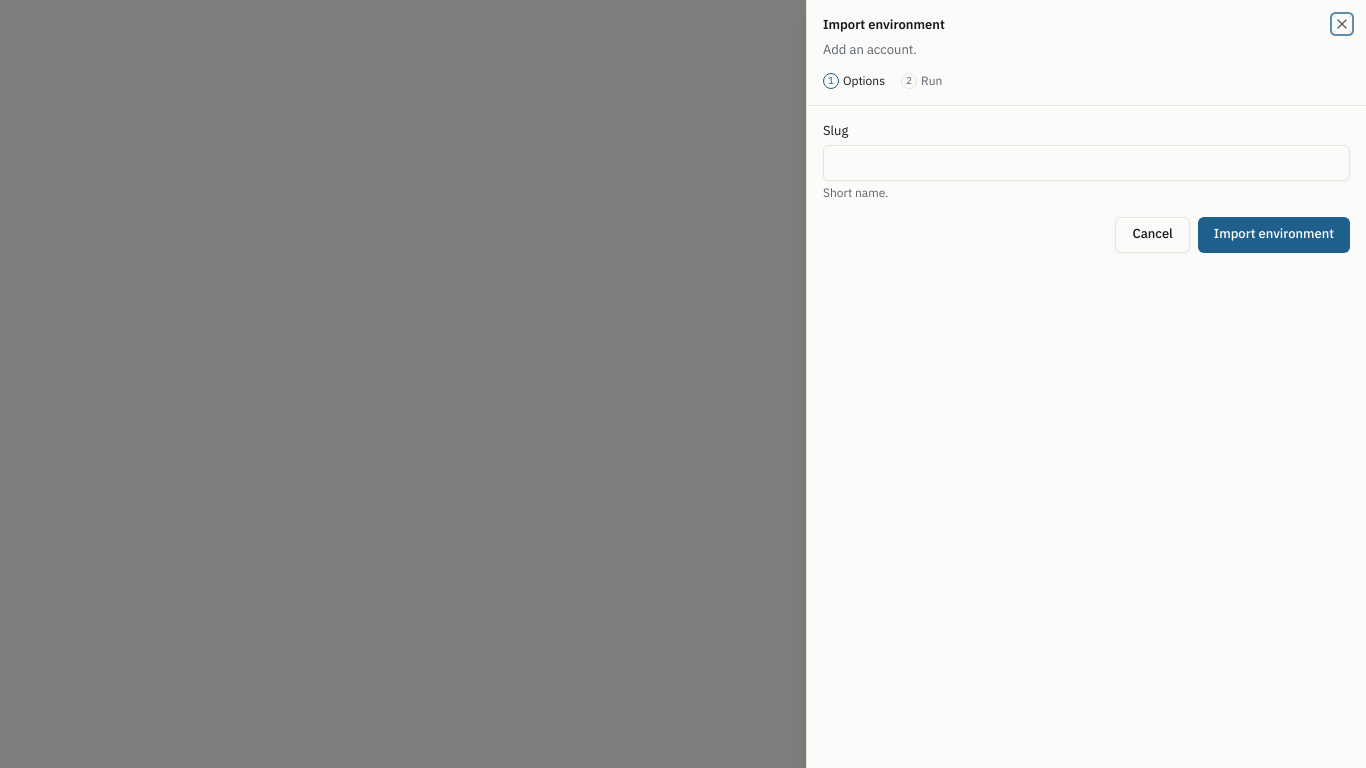
Test: TaskPanel for tasks that never pause for approval › shows why an import failed in the panel, with its diagnostic and the fix, and the way to its operation
Type "example-prod" into the field labelled "Slug" at (1086, 163), box [823, 145, 1350, 181]
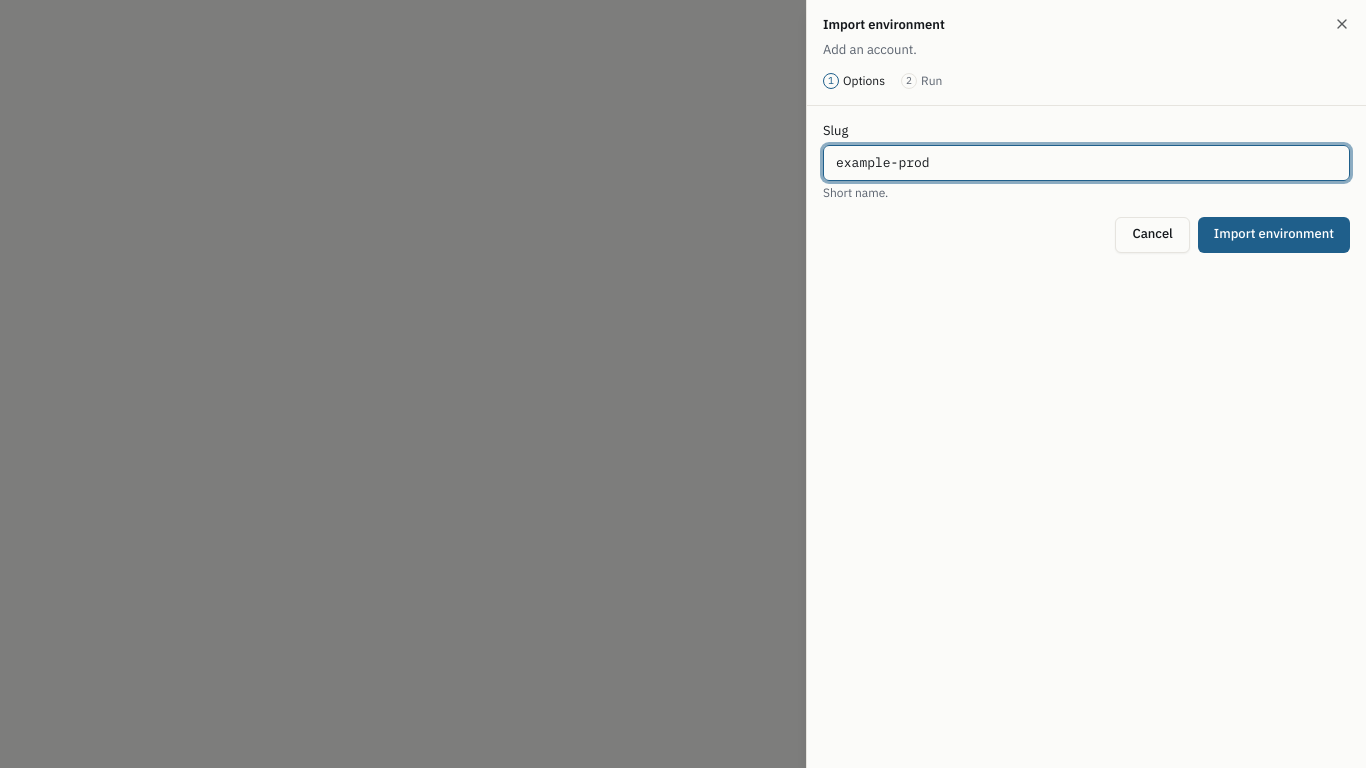
Click the button "Import environment" at (1274, 235), box [1198, 217, 1350, 253]
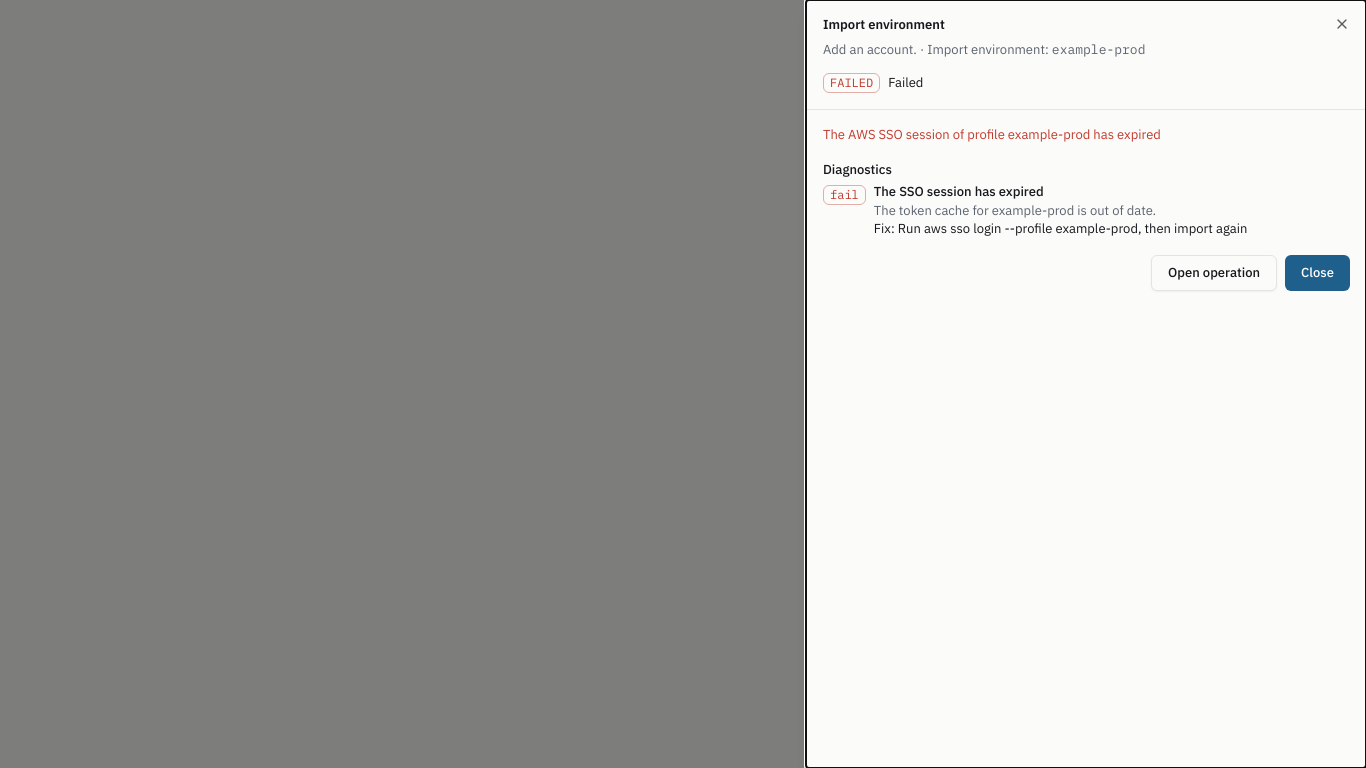
Expected: the text "The AWS SSO session of profile example-prod has expired" is shown, [823, 126, 1161, 143]
Expected: the text "Failed" is shown, [888, 74, 923, 92]
Expected: the element "Diagnostics" is shown, [823, 161, 1247, 237]
